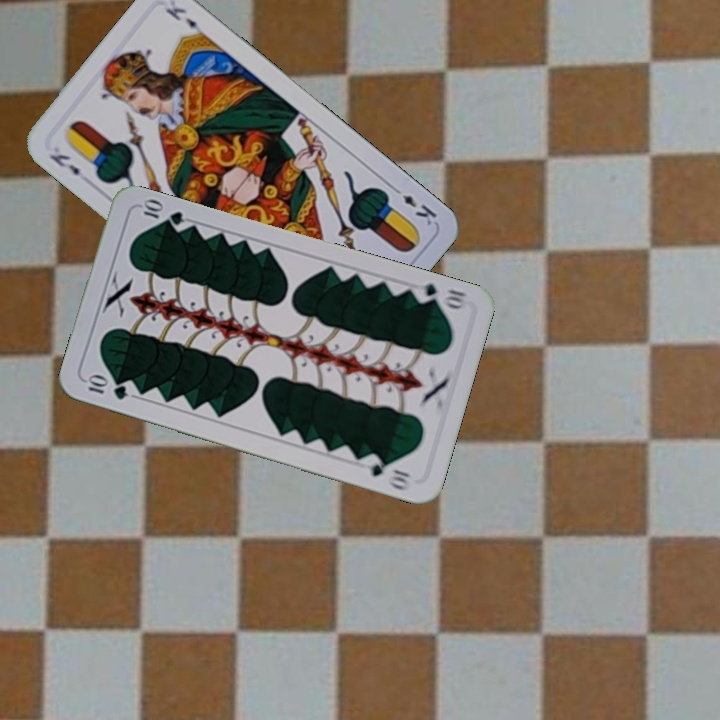EK: (388, 182, 440, 228), (45, 150, 83, 179)
G10: (409, 279, 470, 312), (82, 372, 131, 403)
